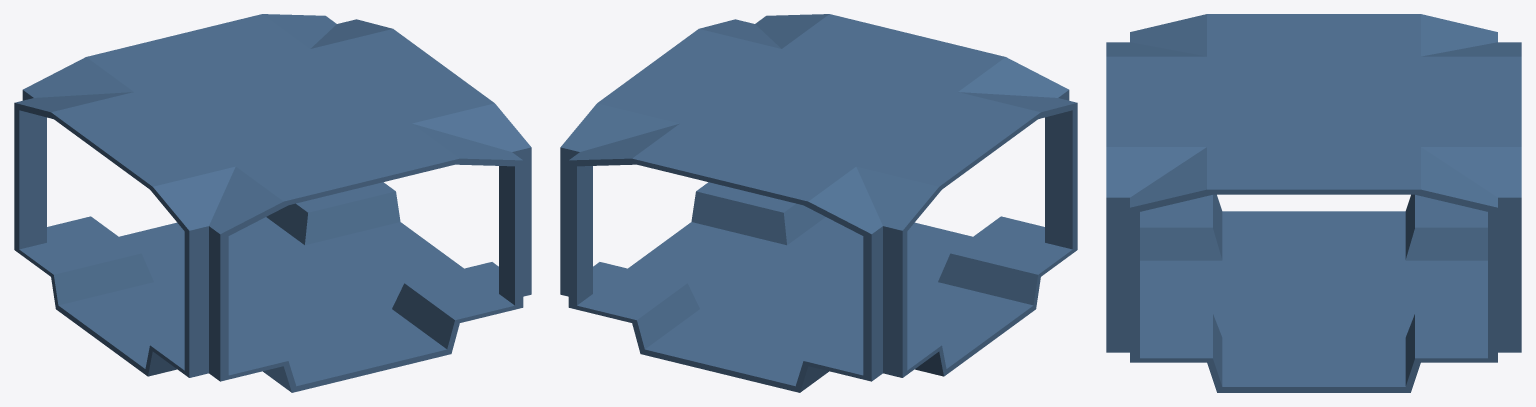
File: Tunnel Cross.glb
3 views of the same model, side by side, from view 1: azimuth 30°, elevation 25°; view 2: azimuth 150°, elevation 25°; view 3: azimuth 270°, elevation 25° (orthographic). The views are drawn at different scales.
Parts seen in each view (by area): view 1: Tunnel cross; view 2: Tunnel cross; view 3: Tunnel cross.
Part boxes in pixels (<box>): Tunnel cross: <box>14,14,531,392</box>; Tunnel cross: <box>560,14,1077,392</box>; Tunnel cross: <box>1106,14,1521,392</box>.
Bounding box in the file's own units: 7.16 × 3.87 × 7.16.
